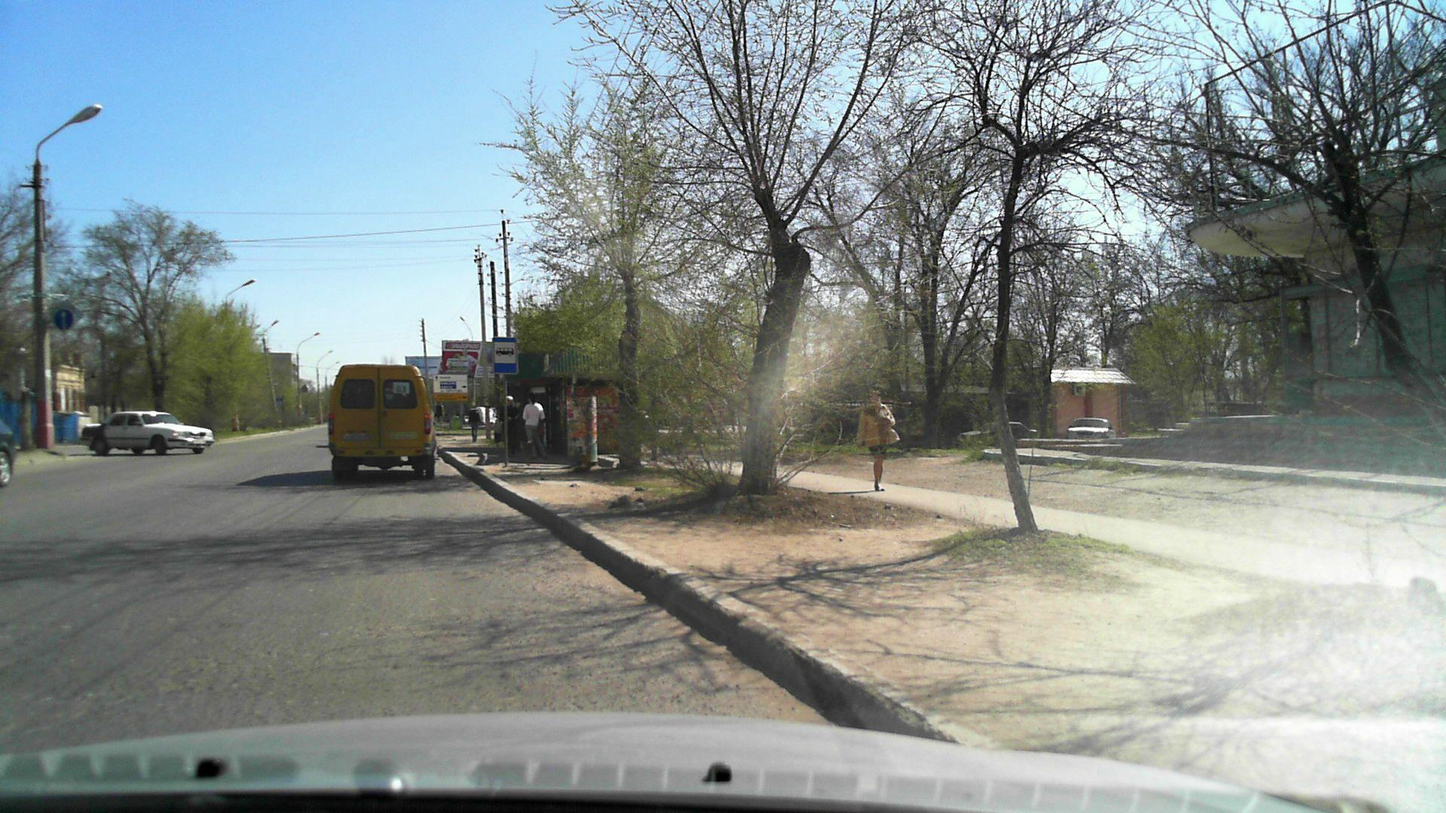road_sign: (491, 336, 517, 375)
